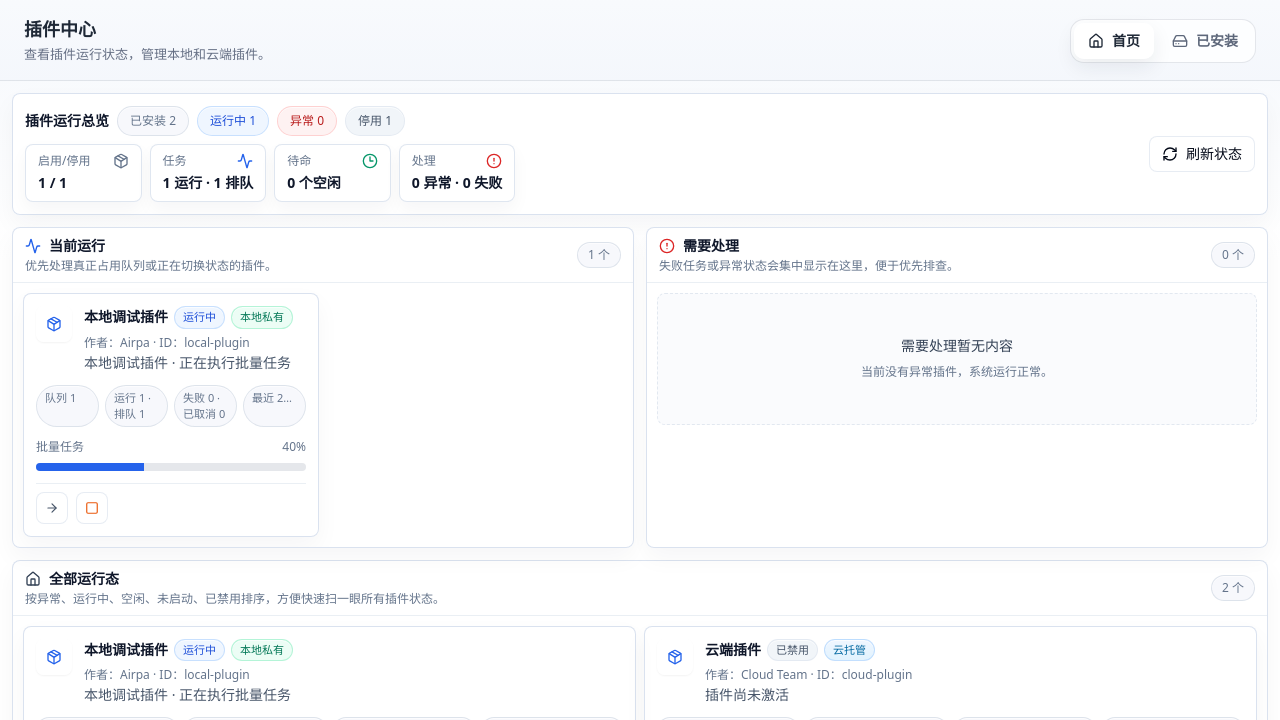
Test case: PluginMarket › switches to the installed workspace with grouped plugin sections
This screenshot has width=1280, height=720.
What coordinates should you click on to do the following:
click the button "已安装"
I would click on:
 (1205, 41)
Its box is [1158,23,1252,59].
(page scrolled)
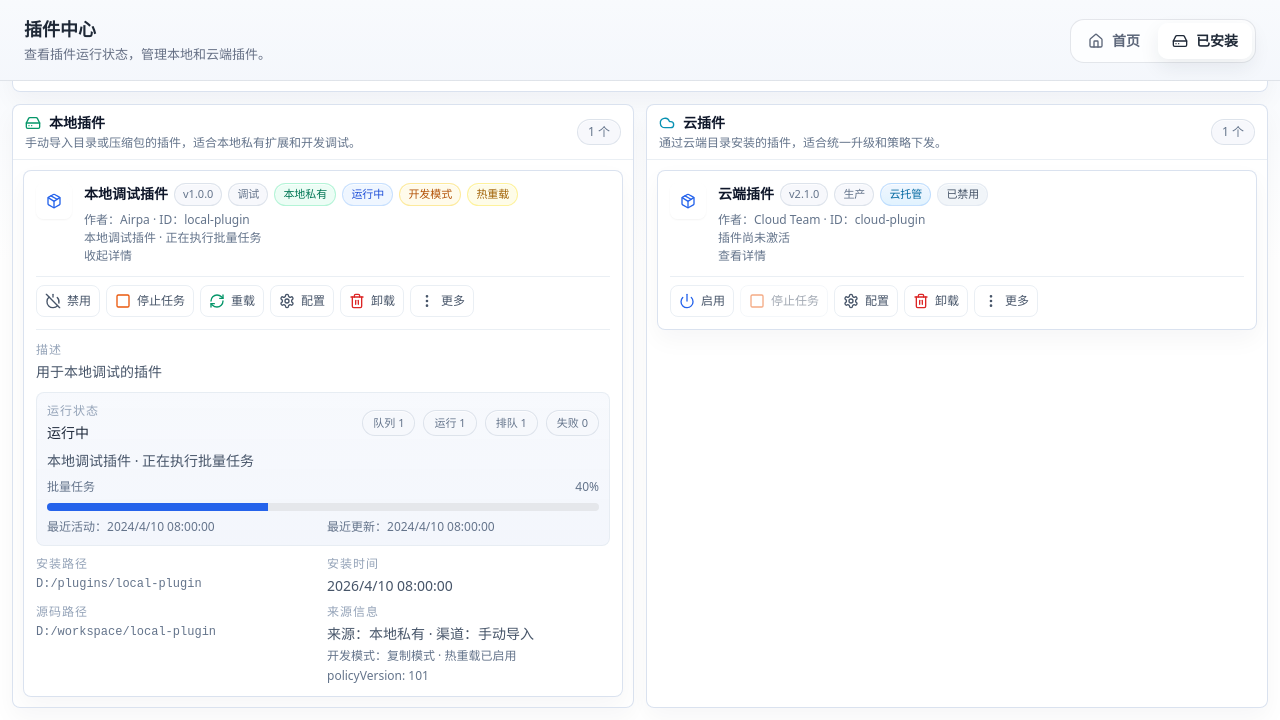
Expected: the text "本地插件" is shown, [49,113,105,133]
Expected: the text "云插件" is shown, [683,113,725,133]
Expected: the text "D:/plugins/local-plugin" is shown, [36,576,202,590]
